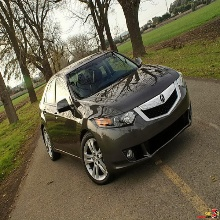no damage: (39, 49, 193, 185)
